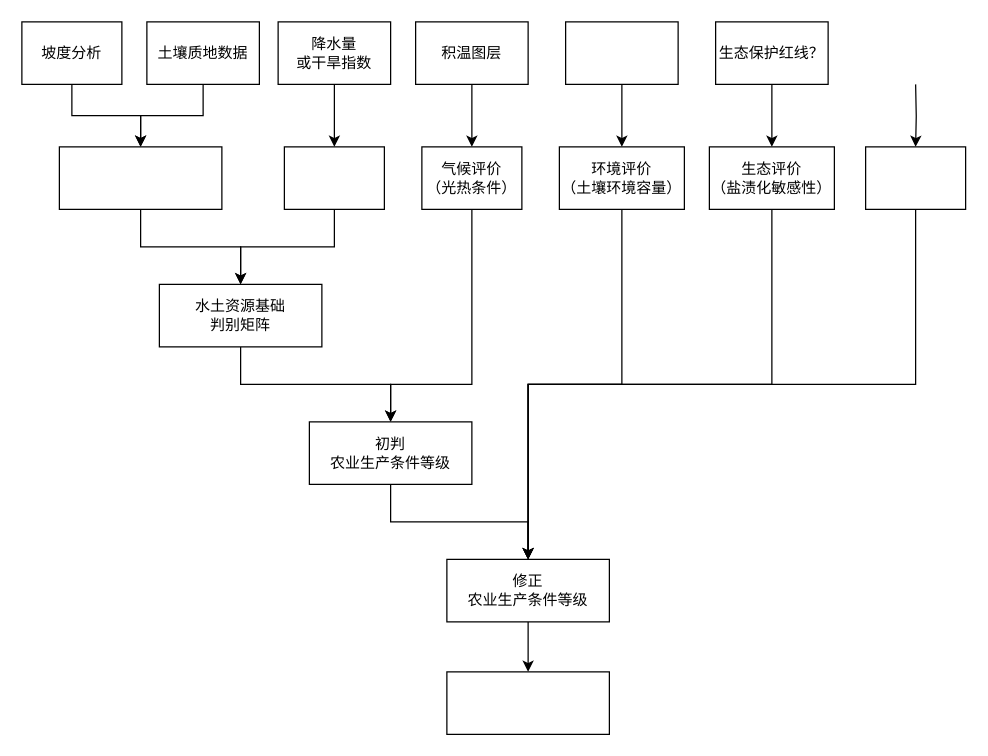
Some shapes in this 988 by 756 pixel diagram are drawn without their labels. Here are the shapes that lost their labels. From the top down, the centre of each, then its label:
[621,52]: 污染物含量
[140,177]: 土地资源评价
[333,177]: 水资源评价
[915,177]: 灾害评价 （发生频率）
[527,702]: 确定适宜性等级
